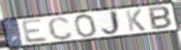B: (147, 5, 174, 31)
C: (47, 16, 75, 41)
E: (21, 18, 50, 44)
J: (100, 9, 124, 36)
K: (124, 8, 147, 32)
O: (73, 13, 98, 39)
